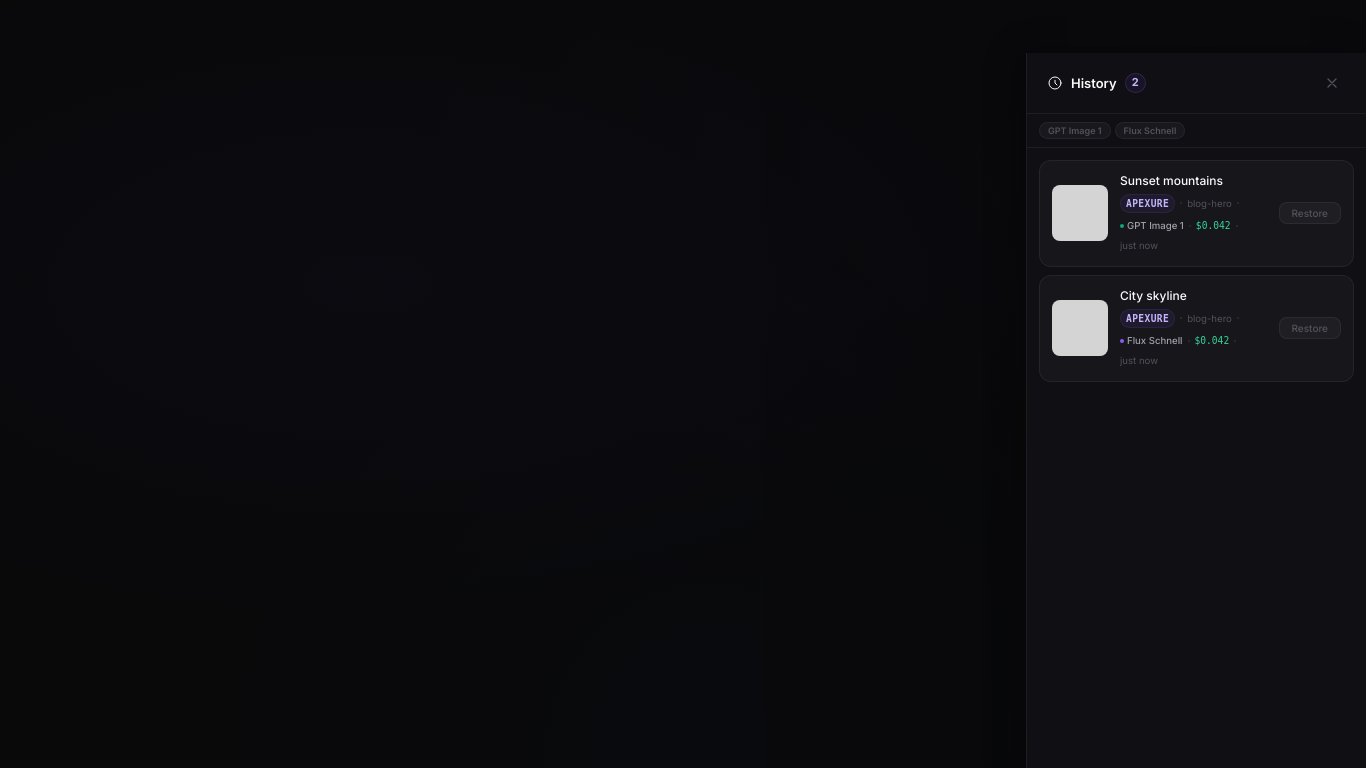
HistoryDrawer › clears filters when Clear button is clicked
Apply filter (first match is the filter chip)
Click the button "Flux Schnell".
click(1150, 130)  # box [1114, 122, 1185, 139]
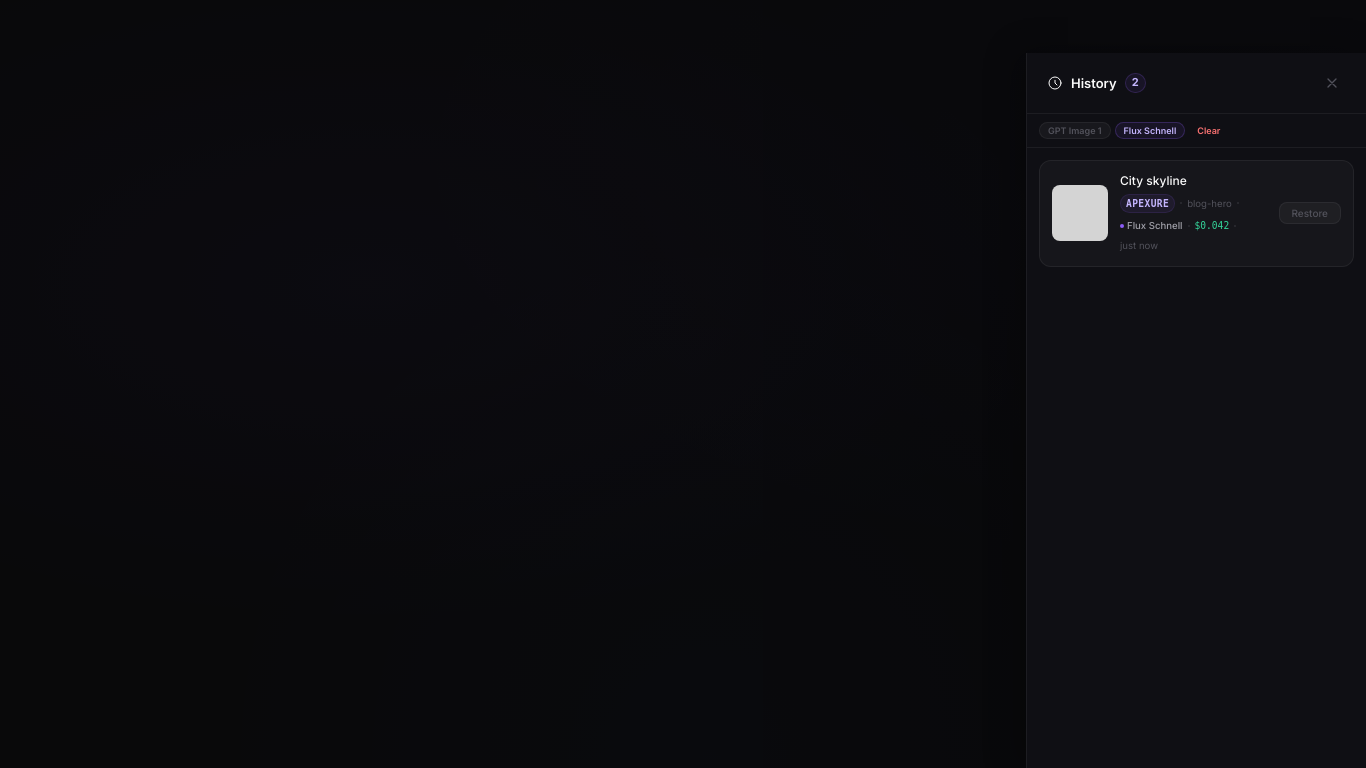
Now the text "Sunset mountains" is gone
Clear filter
Click the button "Clear".
click(1209, 130)  # box [1189, 122, 1228, 139]
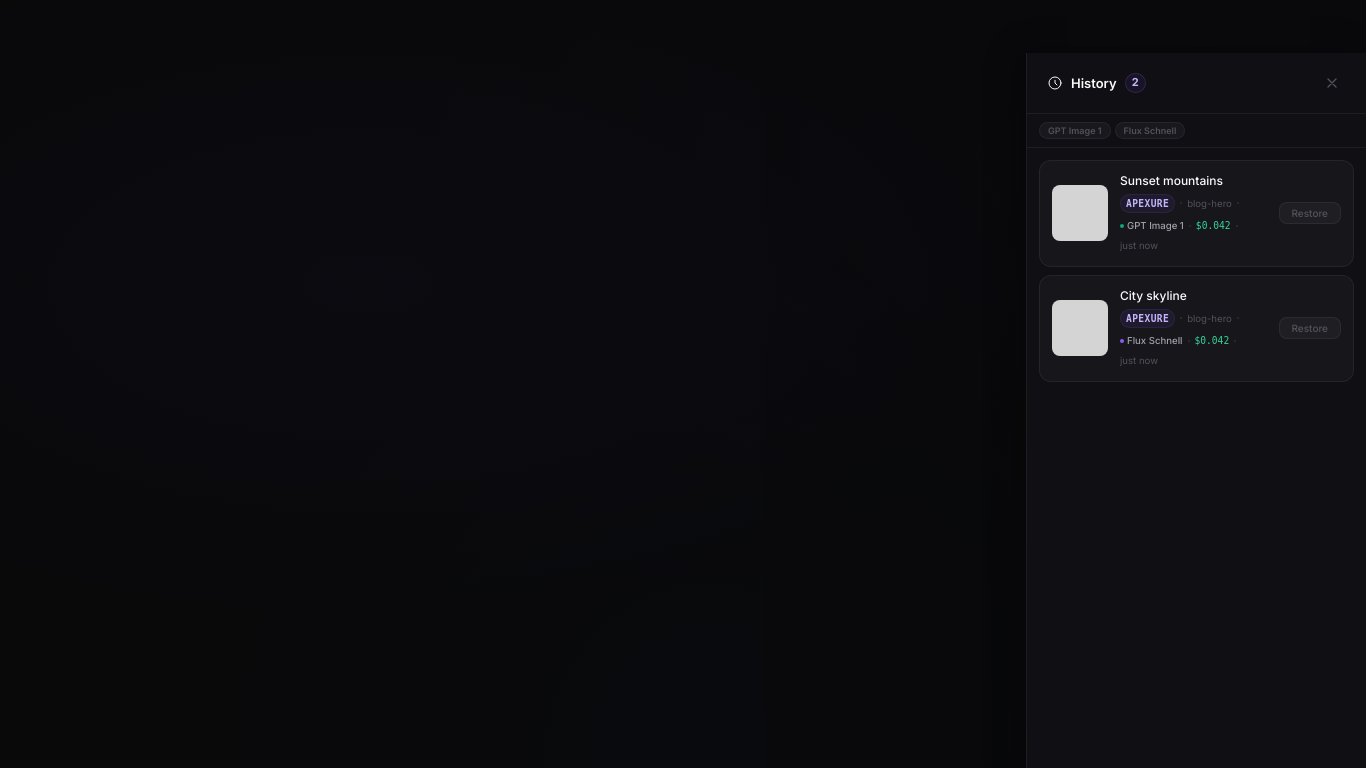
Expected: the text "City skyline" is shown, [1120, 288, 1187, 303]
Now the text "Sunset mountains" is shown, box [1120, 173, 1223, 188]
